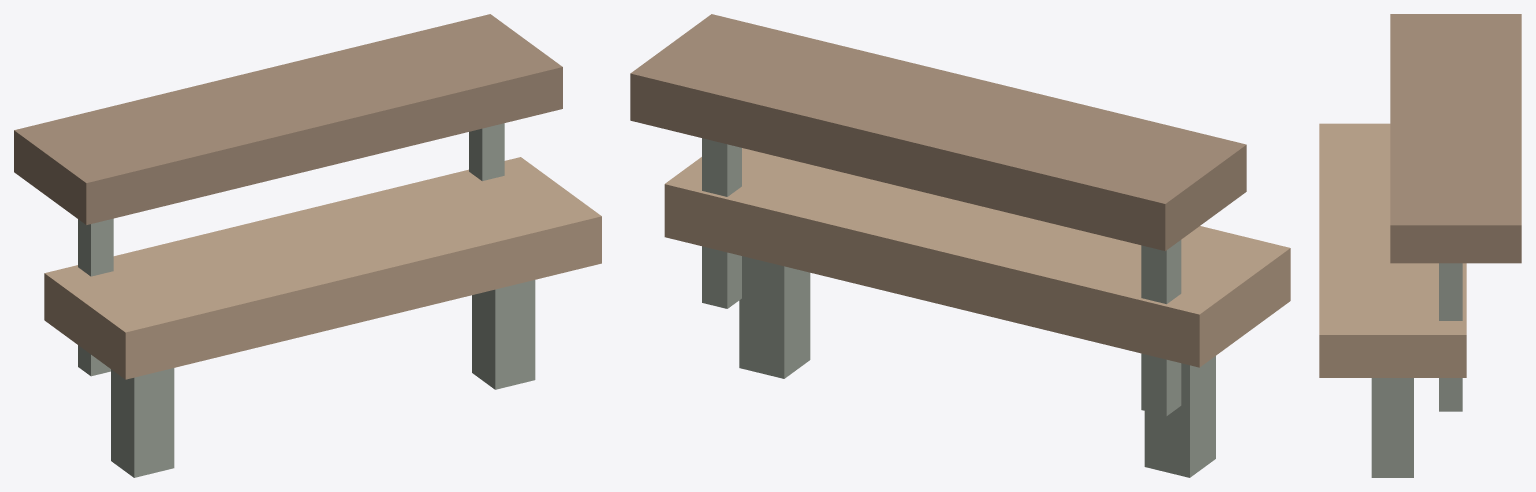
Rendered from reflection_bench.glb.
The picture shows the model from 3 angles, left to right: view 1: azimuth 30°, elevation 25°; view 2: azimuth 150°, elevation 25°; view 3: azimuth 270°, elevation 25°; orthographic projection. The views are drawn at different scales.
Parts seen in each view (by area): view 1: seat, back, leg_0, leg_1, backpost_0, backpost_1; view 2: back, seat, leg_1, leg_0, backpost_0, backpost_1; view 3: back, seat, leg_1, backpost_1.
Part boxes in pixels (x1=…): seat: x1=44, y1=157, x2=601, y2=379; back: x1=14, y1=14, x2=562, y2=224; leg_0: x1=111, y1=368, x2=174, y2=477; leg_1: x1=472, y1=280, x2=535, y2=389; backpost_0: x1=78, y1=218, x2=113, y2=376; backpost_1: x1=469, y1=123, x2=504, y2=180; back: x1=630, y1=14, x2=1246, y2=250; seat: x1=664, y1=148, x2=1290, y2=367; leg_1: x1=739, y1=256, x2=810, y2=378; leg_0: x1=1144, y1=356, x2=1215, y2=477; backpost_0: x1=1141, y1=240, x2=1181, y2=416; backpost_1: x1=702, y1=138, x2=741, y2=308; back: x1=1390, y1=14, x2=1521, y2=263; seat: x1=1319, y1=123, x2=1466, y2=377; leg_1: x1=1371, y1=378, x2=1413, y2=477; backpost_1: x1=1439, y1=263, x2=1462, y2=411.
Bounding box in the file's own units: 1.9 × 1.13 × 0.77.
